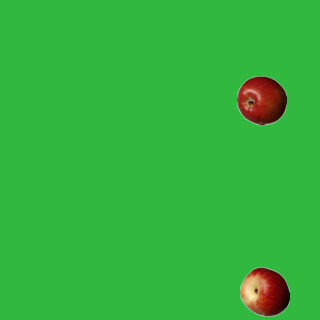Apple Braeburn: (236, 75, 286, 125)
Nectarine: (239, 266, 289, 316)
